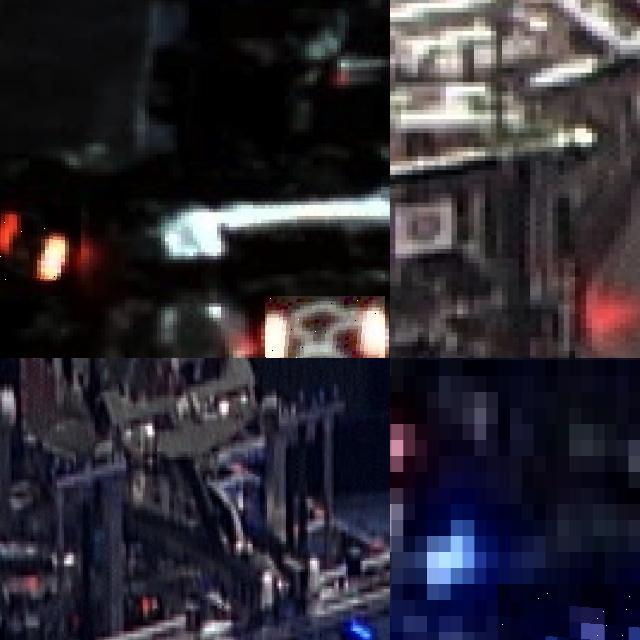B1: (498, 584, 640, 640)
Rs: (265, 295, 385, 358), (0, 204, 81, 281)
